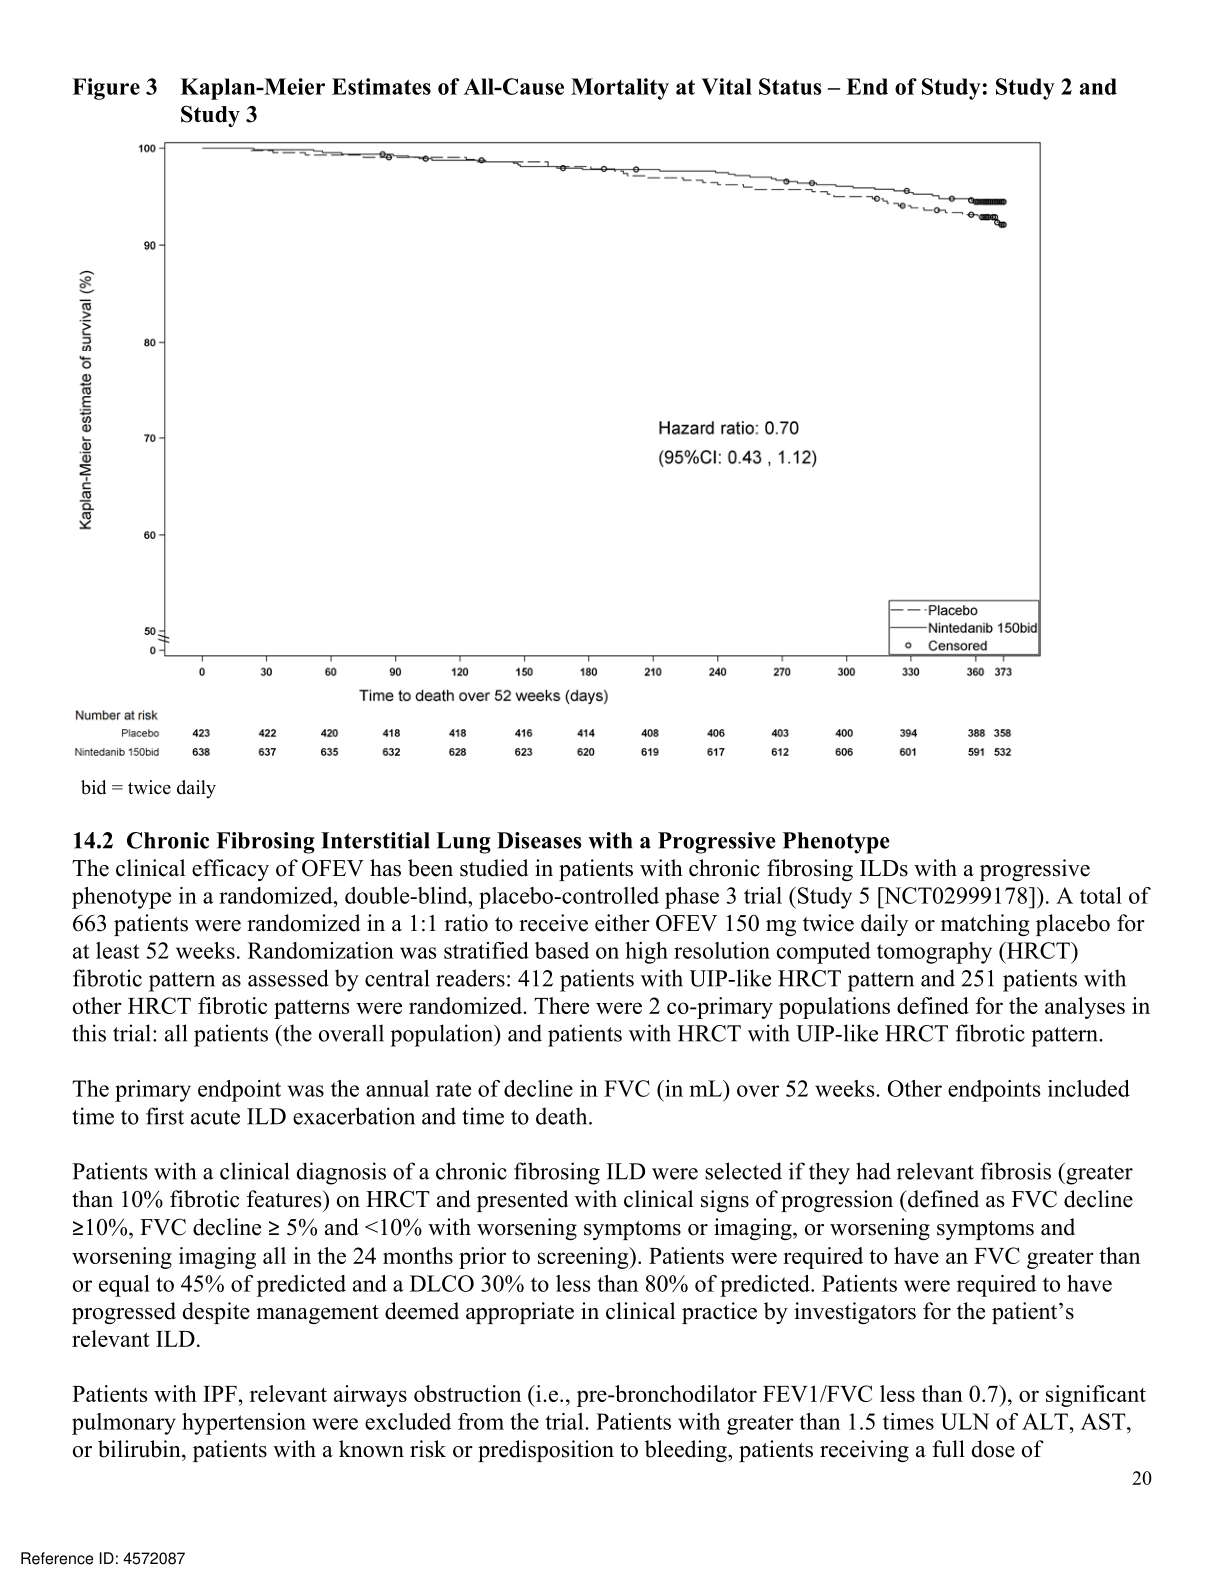nolines: (72, 726, 1013, 759)
